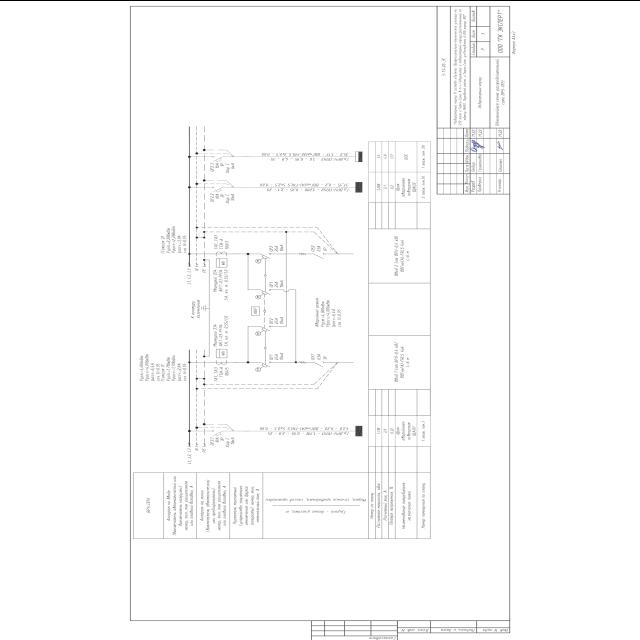-: (212, 314, 230, 346), (212, 268, 228, 300), (214, 192, 237, 204), (214, 434, 236, 446), (215, 161, 235, 173), (218, 233, 230, 249), (218, 365, 228, 381), (274, 350, 286, 360), (316, 244, 328, 251), (274, 243, 284, 251), (274, 279, 284, 287), (274, 316, 284, 324), (316, 353, 328, 359)
AVR: (250, 305, 260, 315)
M: (255, 258, 261, 263), (256, 366, 262, 371), (255, 330, 261, 335), (256, 294, 262, 298)
QF: (260, 360, 272, 367), (260, 324, 272, 331), (260, 288, 272, 295), (212, 186, 224, 192), (212, 155, 224, 161), (260, 252, 272, 258), (211, 429, 223, 435)
QS: (314, 252, 326, 258), (313, 360, 325, 366)
TT: (215, 358, 228, 364), (215, 250, 227, 256)
WH: (215, 348, 228, 358), (215, 257, 228, 267)
